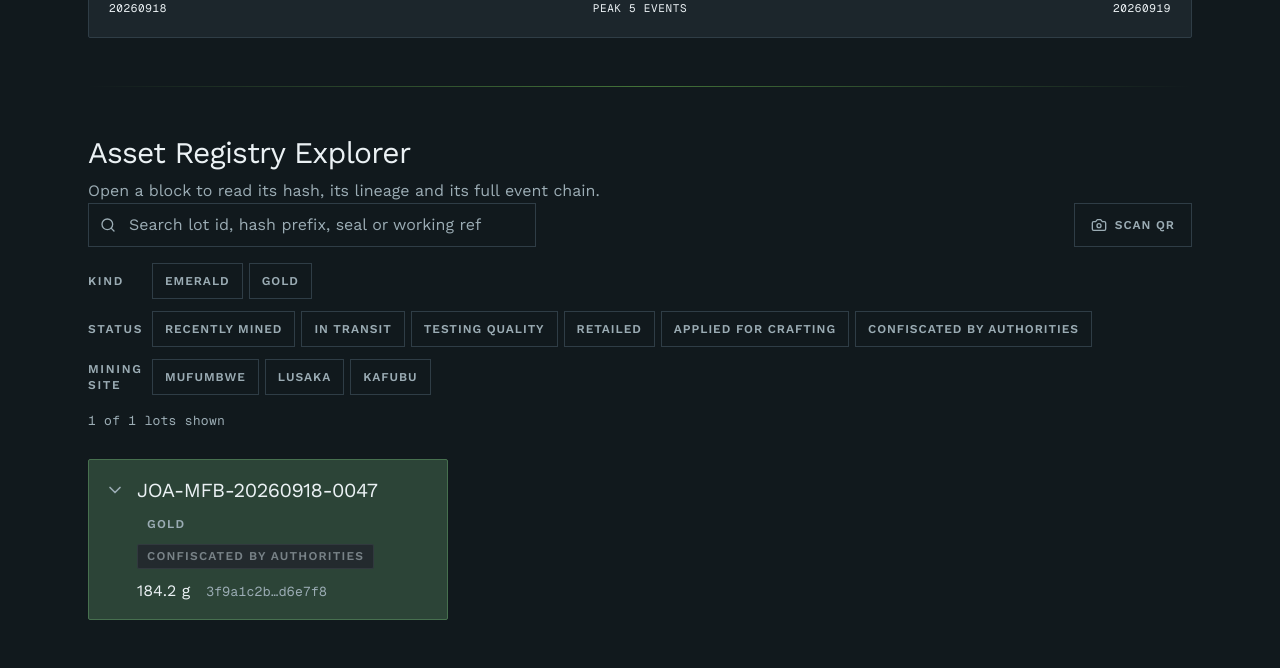
Scenario: Sealed block stays readable › withdraws only the append affordance from a sealed block
The width and height of the screenshot is (1280, 668).
(page scrolled)
Expected: the text "JOA-MFB-20260918-0047" is shown, [137, 476, 377, 504]
Click the button with test id "lot.open_button.1" at (257, 490), box [89, 460, 447, 619]
(page scrolled)
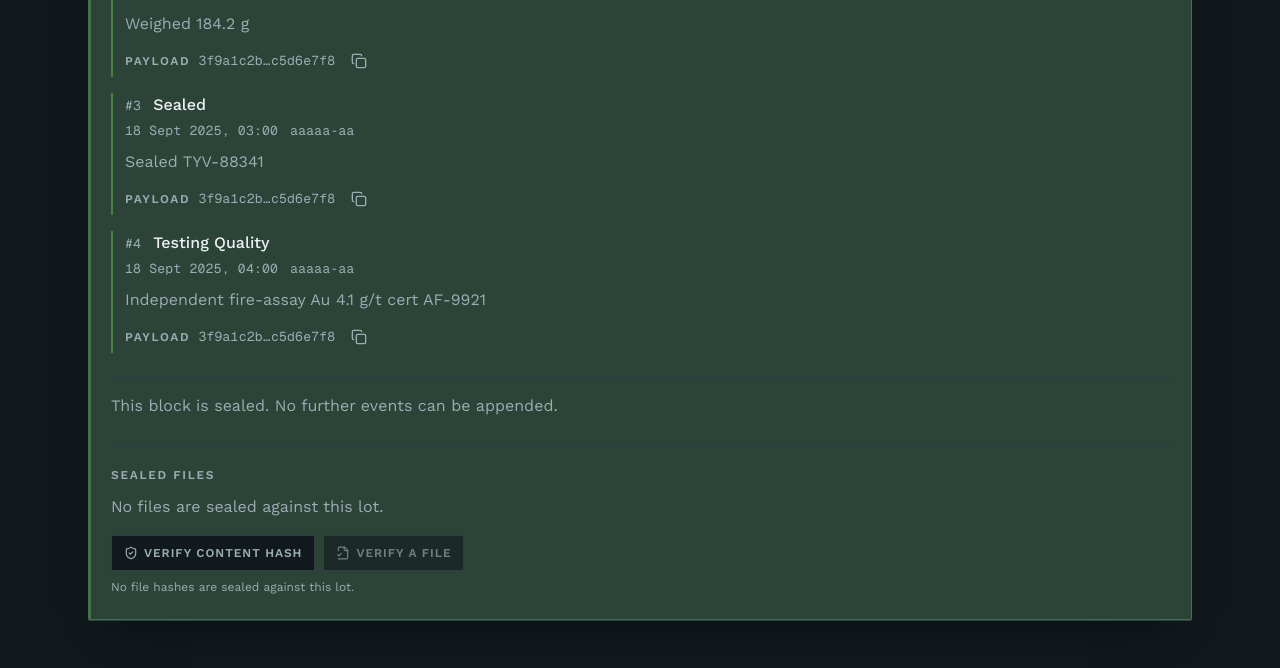
Expected: the text with test id "event.frozen_notice" shows "sealed. No further events", [111, 396, 558, 415]
